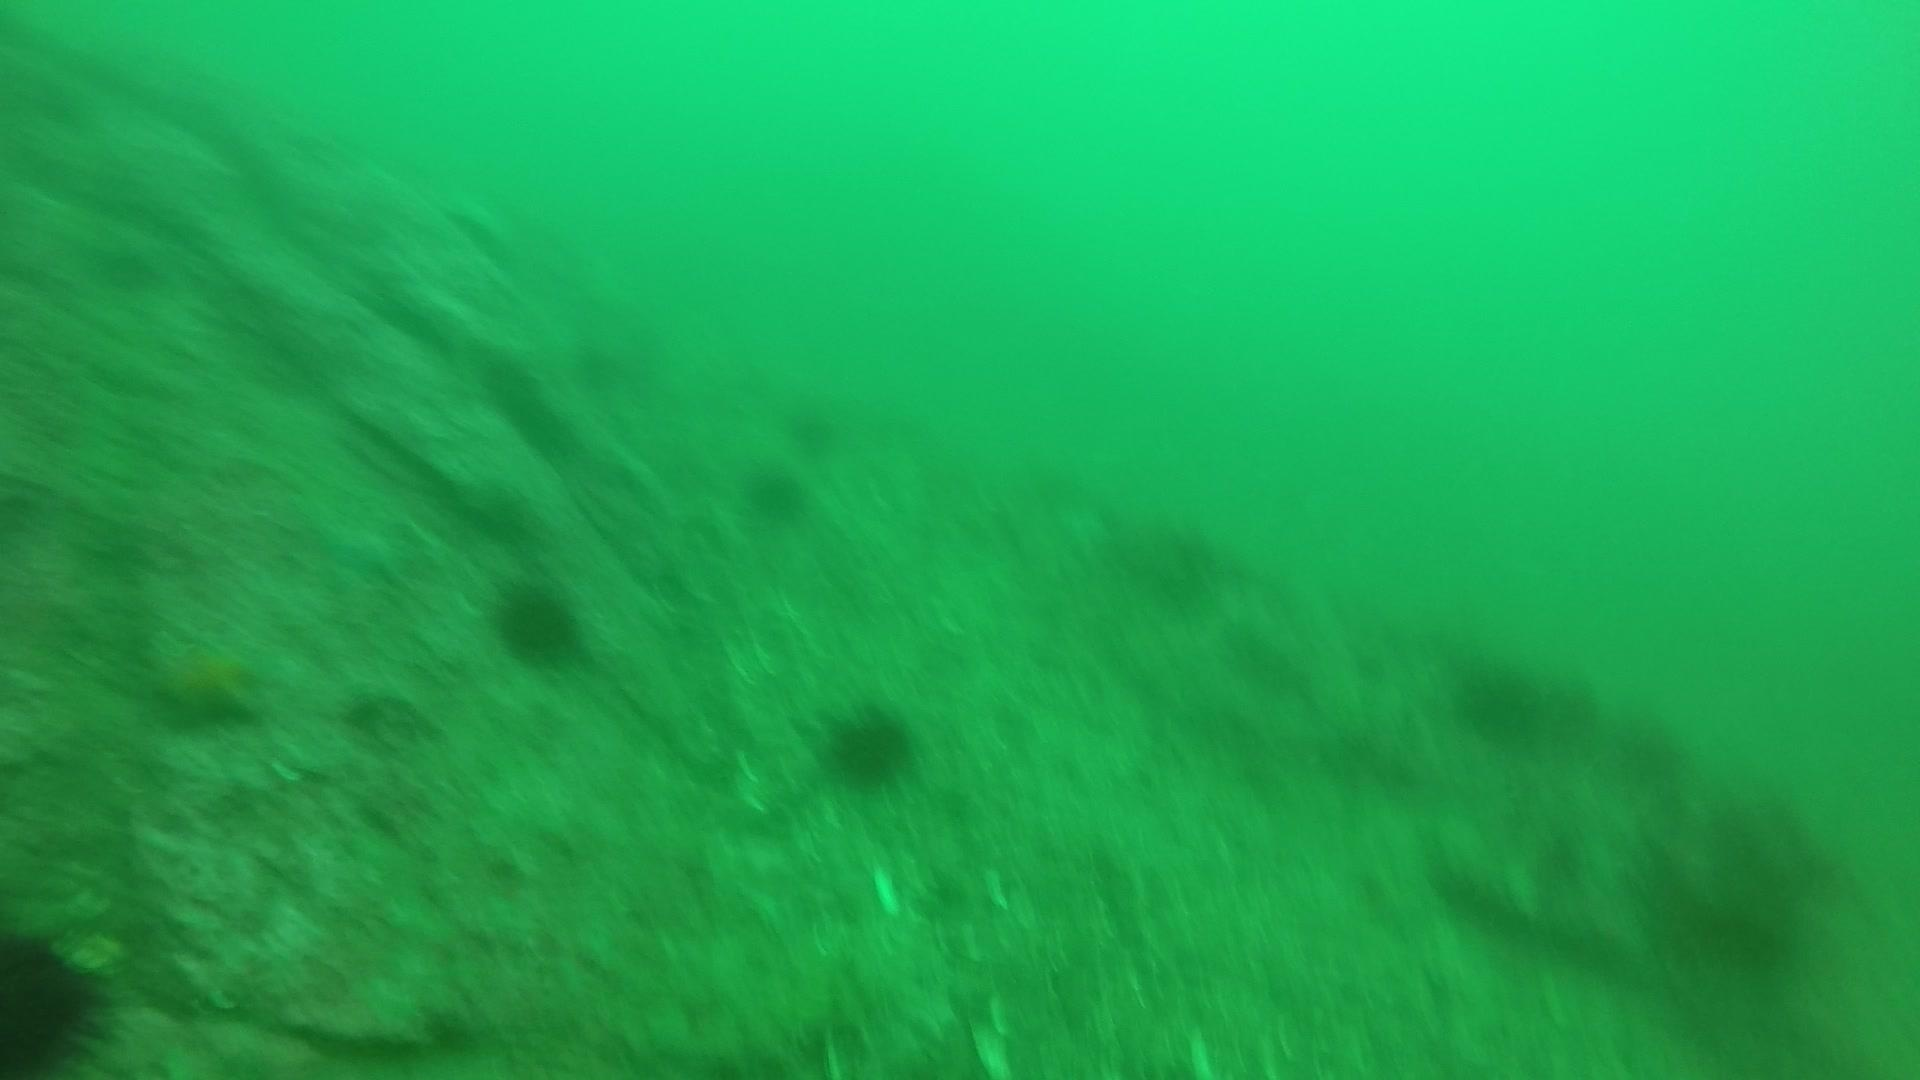echinus: (0, 920, 112, 1076), (818, 698, 920, 793), (1451, 651, 1553, 746), (487, 574, 587, 669), (738, 460, 814, 526), (781, 392, 847, 456)
starfish: (142, 624, 270, 732)
